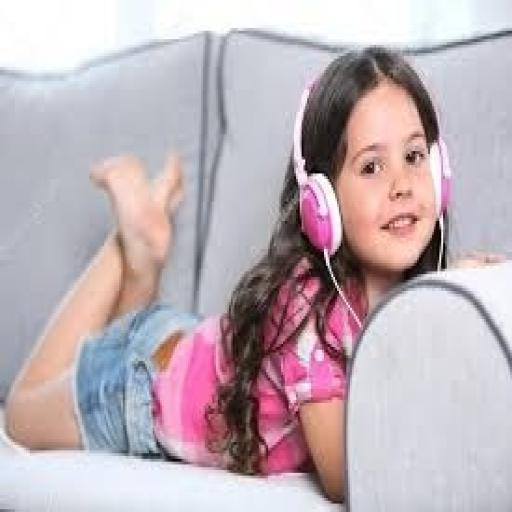listening_to_music: (4, 42, 454, 501)
